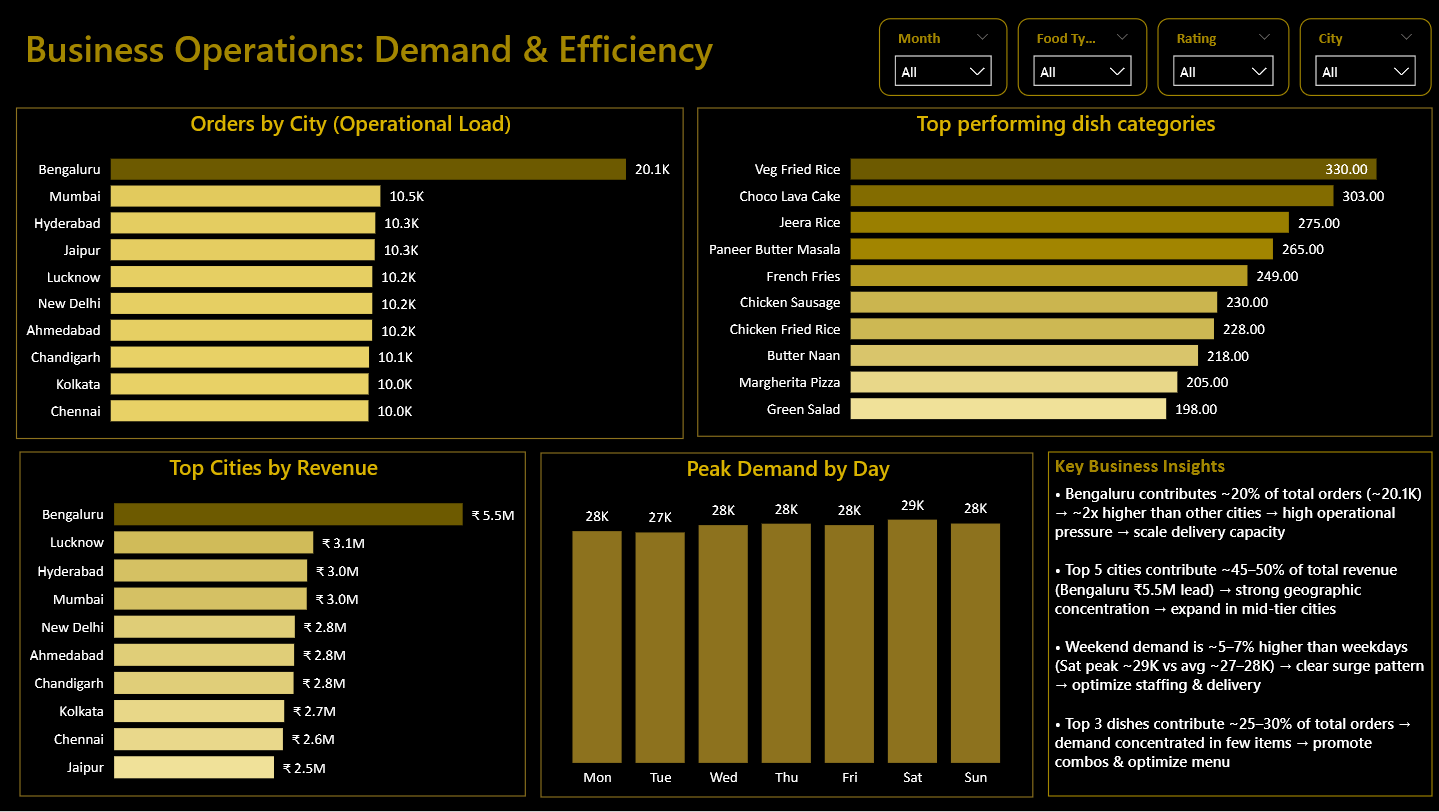

What the dashboard file says about the page in this screenshot:
{"tool":"powerbi","page":{"name":"operations","canvas":[1280,720],"ordinal":1},"visuals":[{"type":"slicer","fields":{"Values":["dim_dish.Food Type"]},"box":[903.4,16.9,114.6,68.8],"z":0},{"type":"slicer","fields":{"Values":["dim_date.Month"]},"box":[779.6,16.9,114.6,68.8],"z":1000},{"type":"slicer","fields":{"Values":["fact_orders.rating"]},"box":[1027.2,16.9,117,68.8],"z":2000},{"type":"slicer","fields":{"Values":["dim_location.city"]},"box":[1153.4,16.9,117,68.8],"z":3000},{"type":"clusteredBarChart","title":"Orders by City (Operational Load)","fields":{"Y":["fact_orders.Total Orders"],"Category":["dim_location.city"]},"box":[15.1,96.1,591.4,293.7],"z":8000},{"type":"clusteredBarChart","title":"Top Cities by Revenue","fields":{"Category":["dim_location.city"],"Y":["fact_orders.Total Revenue"]},"box":[17.8,400.7,448.7,306],"z":9000},{"type":"columnChart","title":"Peak Demand by Day","fields":{"Category":["dim_date.Day"],"Y":["fact_orders.Total Orders"]},"box":[479.6,402.1,437.7,306],"z":10000},{"type":"textbox","box":[17.8,16.5,761.6,79.6],"z":11000},{"type":"clusteredBarChart","title":"Top performing dish categories","fields":{"Category":["dim_dish.dish_name"],"Y":["fact_orders.Total Orders"]},"box":[618.9,96.1,651.8,292.3],"z":12000},{"type":"textbox","title":"Key Business Insights","box":[930.4,400.7,340.3,306],"z":13000}]}

Visuals, with their boxes in screenshot pixels (x1, y1, x2, y2), scaled from the page's 1280x720 canvas onto the 1439x812 screenshot:
slicer - dim_dish.Food Type: [1016,19,1144,97]
slicer - dim_date.Month: [876,19,1005,97]
slicer - fact_orders.rating: [1155,19,1286,97]
slicer - dim_location.city: [1297,19,1428,97]
"Orders by City (Operational Load)" clusteredBarChart: [17,108,682,440]
"Top Cities by Revenue" clusteredBarChart: [20,452,524,797]
"Peak Demand by Day" columnChart: [539,453,1031,799]
textbox: [20,19,876,108]
"Top performing dish categories" clusteredBarChart: [696,108,1429,438]
"Key Business Insights" textbox: [1046,452,1429,797]
